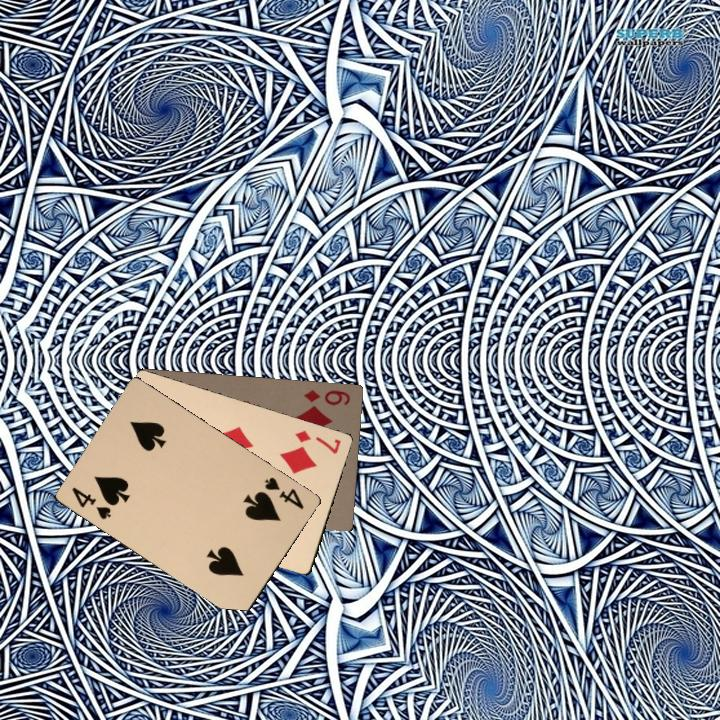4s: (260, 473, 306, 512), (68, 483, 114, 522)
6d: (300, 385, 353, 408)
7d: (291, 426, 343, 457)
